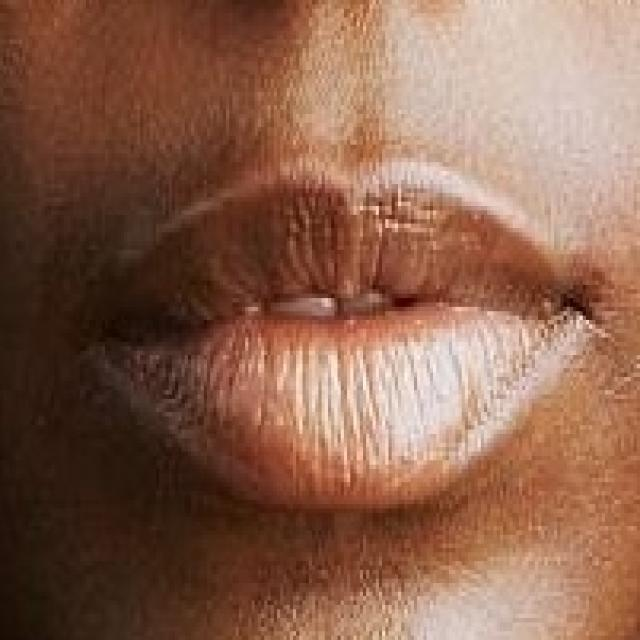closed-mouth: (70, 145, 615, 518)
